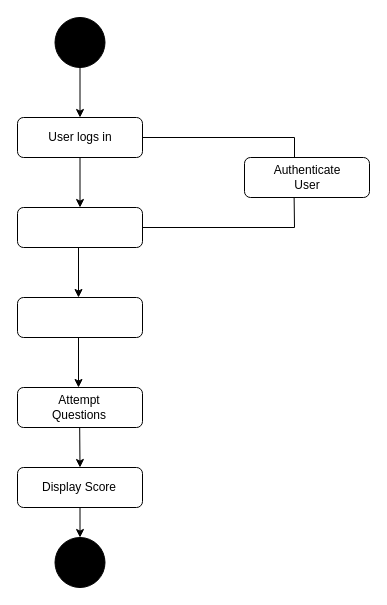
Image size: 387x605. Some labels were removed from this diagram. The centre of each missing label's shape, as x and y in pixels:
"Display Questions" goes at [79,317].
"Select Quiz Category" goes at [79,227].
